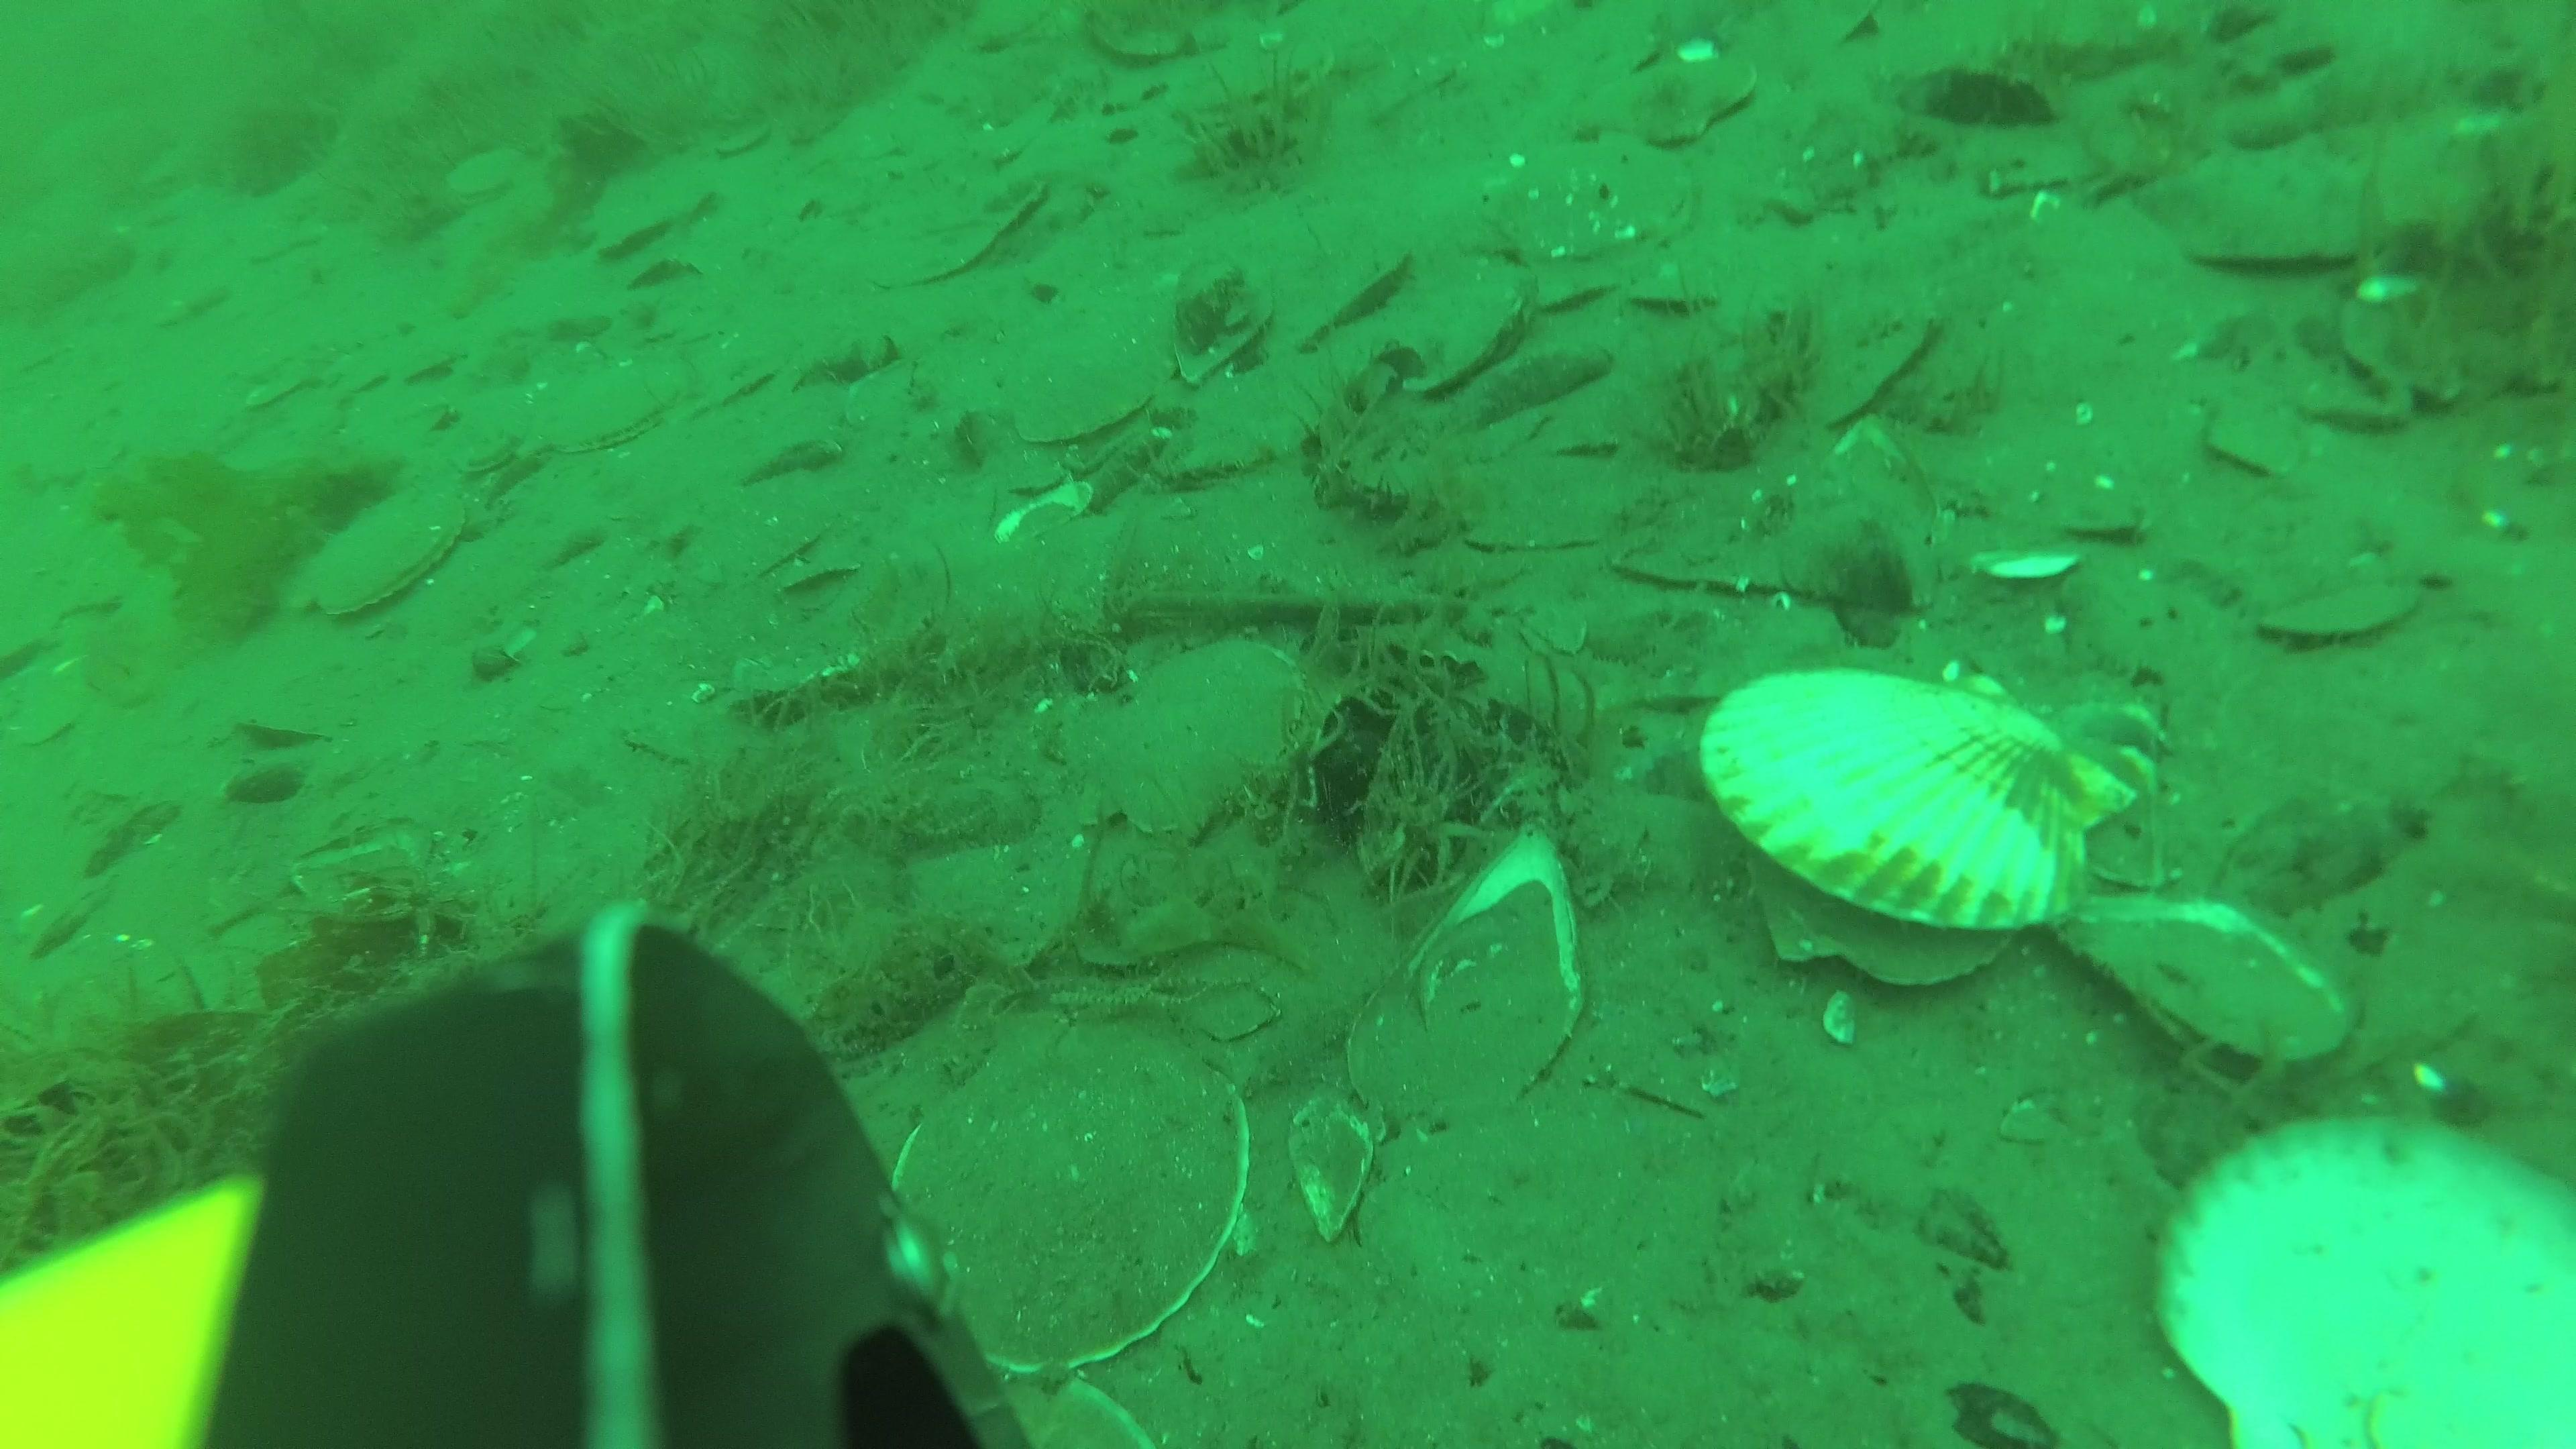scallop: (1698, 649, 2143, 1010), (1070, 635, 1322, 858), (1499, 145, 1706, 280), (308, 488, 464, 616), (1001, 343, 1182, 448), (1585, 55, 1760, 161), (1398, 281, 1539, 393), (2252, 568, 2426, 658), (547, 357, 688, 465), (1295, 248, 1422, 356), (594, 184, 718, 269), (1626, 241, 1729, 317), (1514, 251, 1599, 311), (456, 425, 525, 481)
